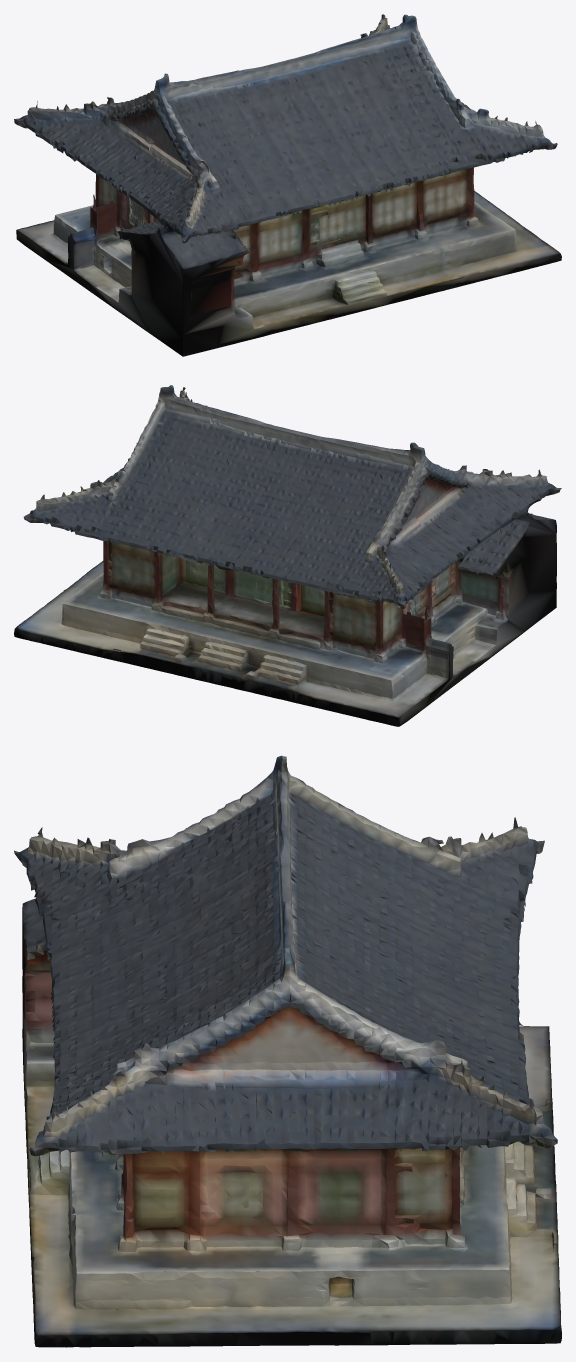
Rendered from taewonjeon.glb.
The picture shows the model from 3 angles, top to bottom: view 1: azimuth 30°, elevation 25°; view 2: azimuth 150°, elevation 25°; view 3: azimuth 270°, elevation 25°; orthographic projection. The views are drawn at different scales.
Size of the model in its own units: 1.05 by 0.5344 by 0.7846.
